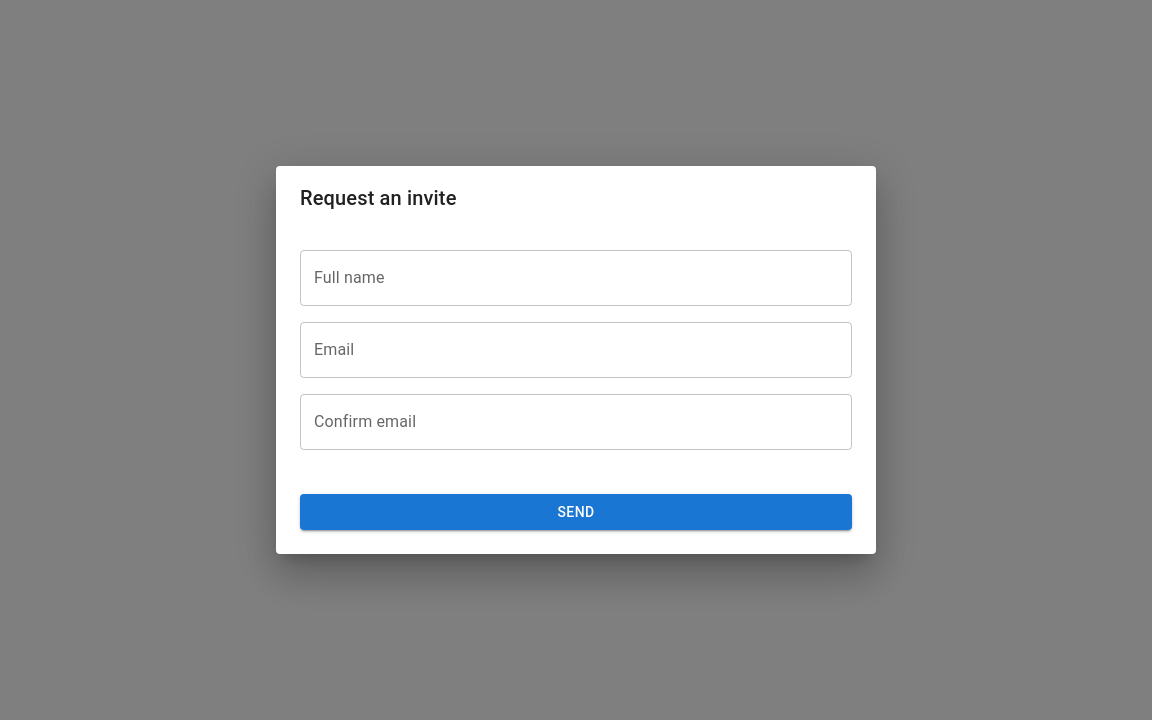
Test: InviteModal › validates email matching
Type "test@example.com" into the field labelled "Email". click: coordinates (576, 350)
box: [300,322,852,378]
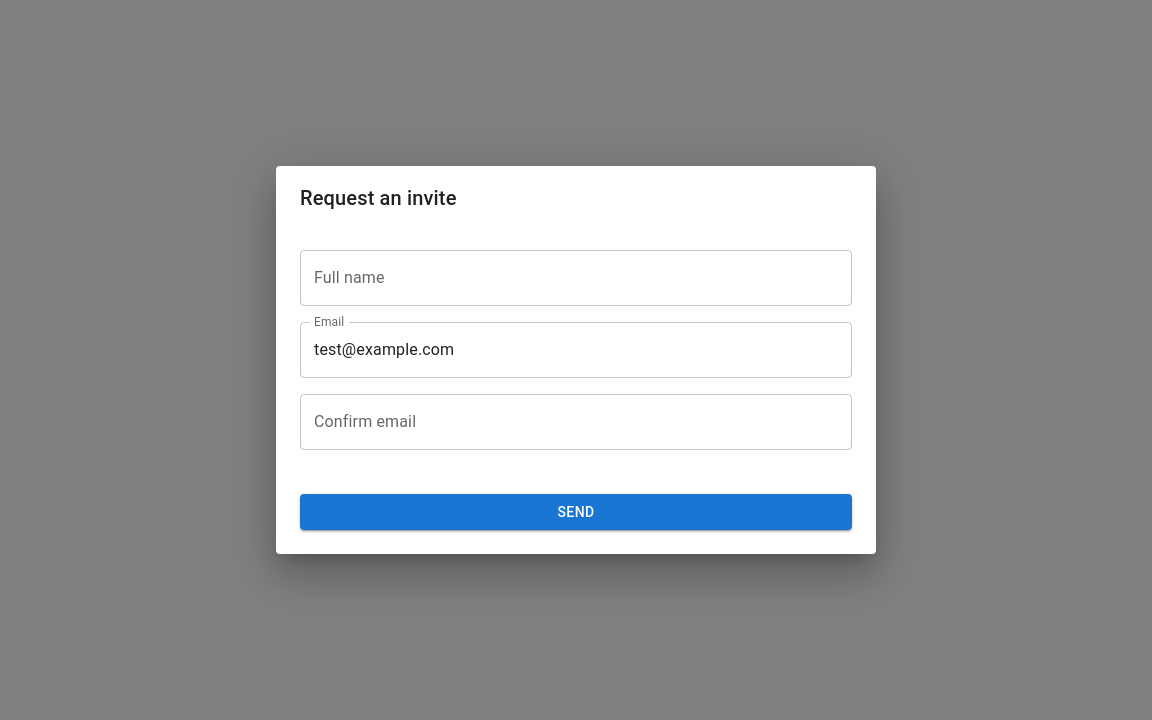
Type "different@example.com" into the field labelled "Confirm email". click: coordinates (576, 422)
box: [300,394,852,450]
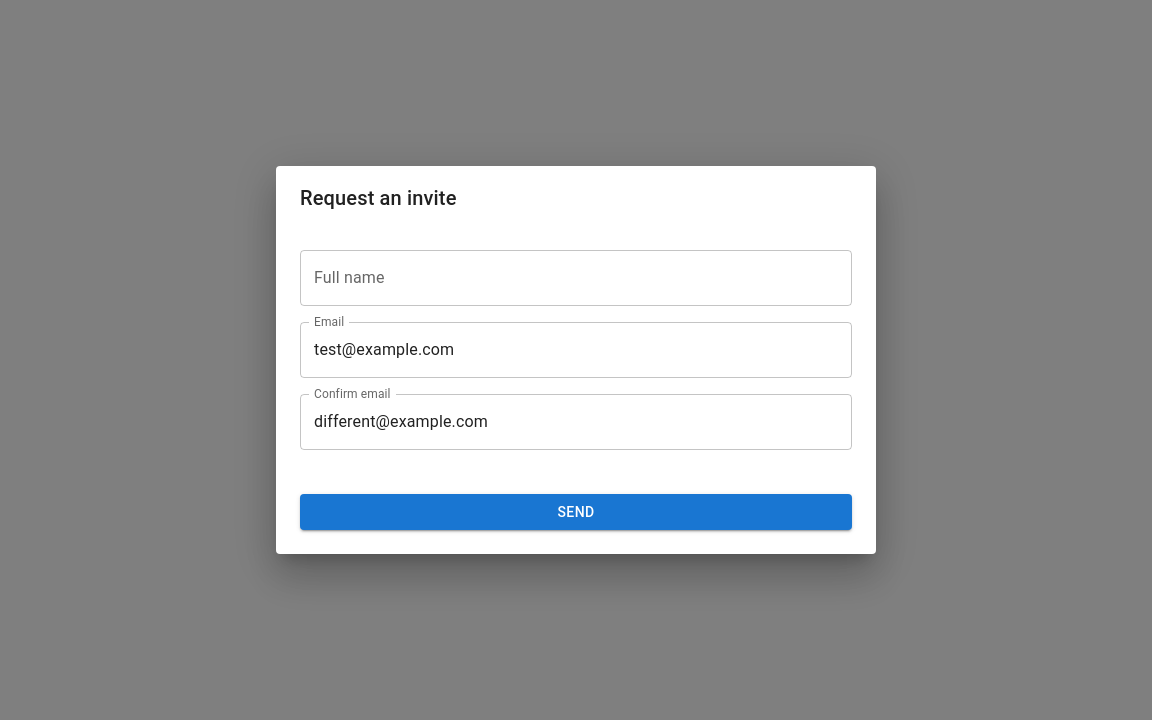
Leave the field labelled "Confirm email", box [300,394,852,450]
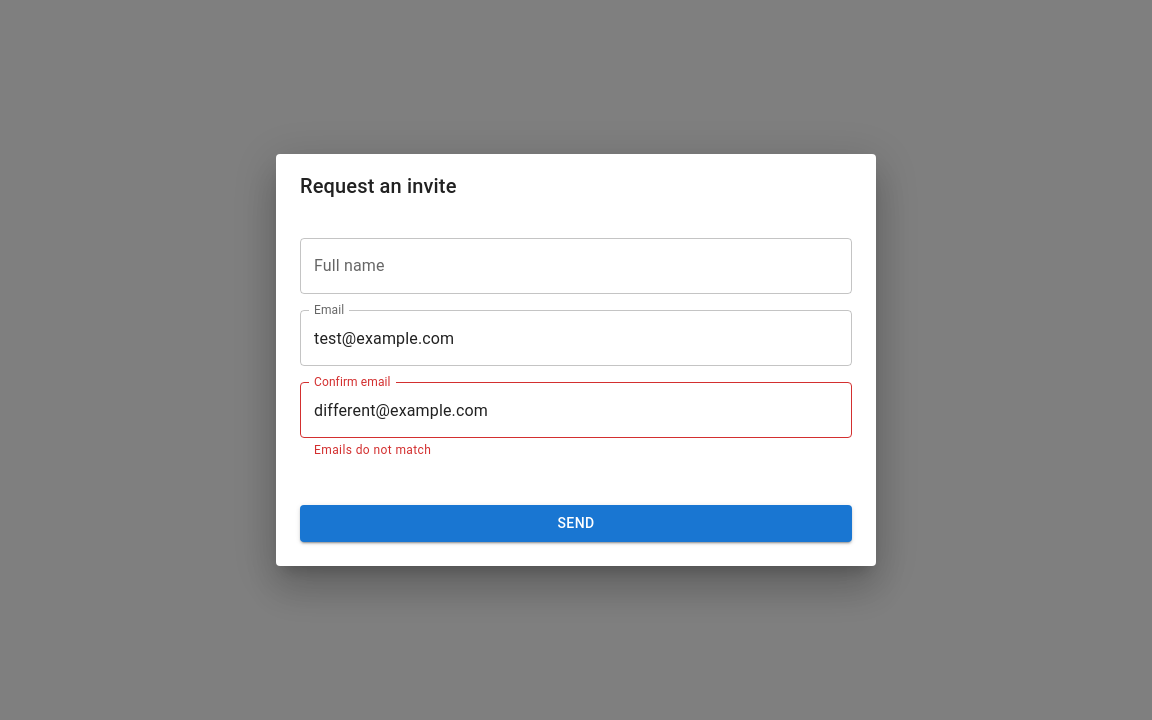
Expected: the text "Emails do not match" is shown, [314,443,431,457]
